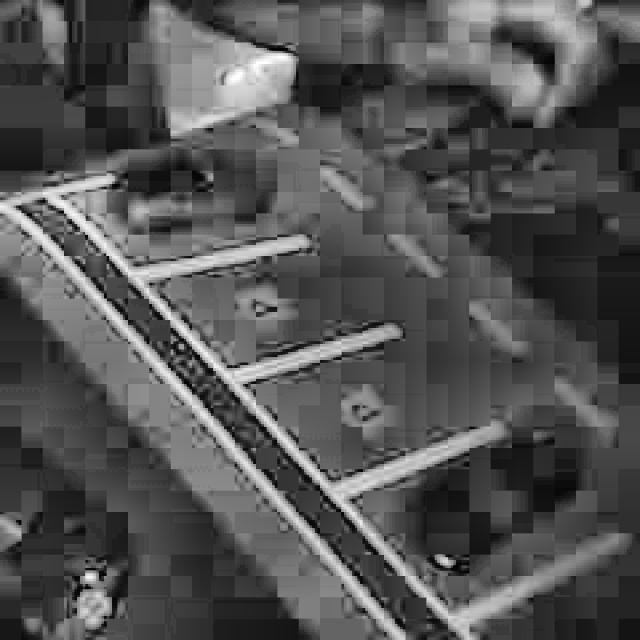car: (388, 412, 574, 578), (94, 150, 286, 245)
